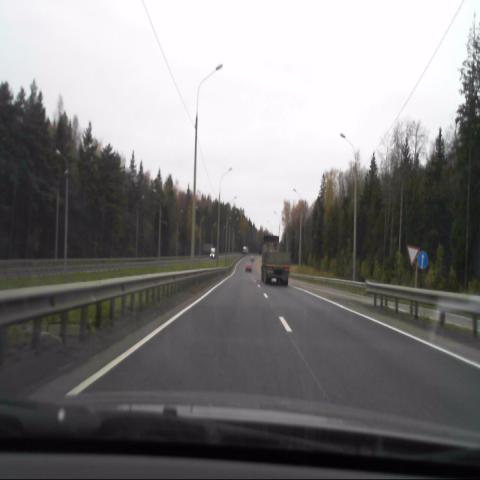2_4: (406, 246, 418, 265)
4_1_1: (417, 251, 429, 272)
